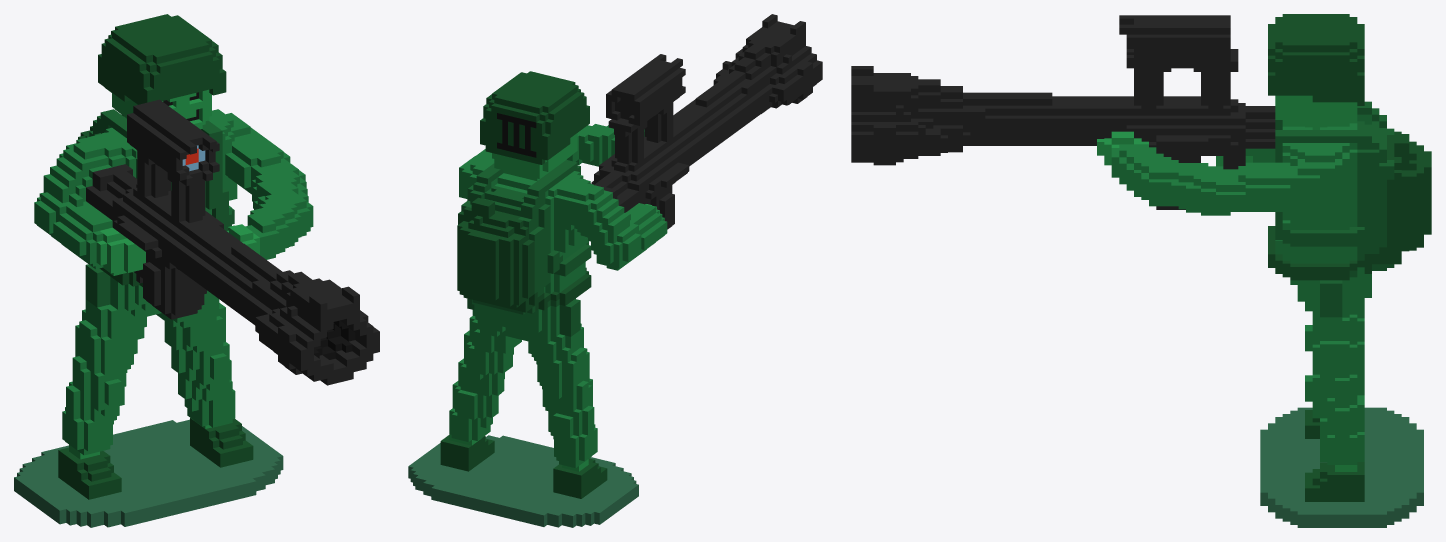
The model's file is snajper_soldier_LVL3_2.0.obj.
The picture shows the model from 3 angles, left to right: view 1: azimuth 30°, elevation 25°; view 2: azimuth 150°, elevation 25°; view 3: azimuth 270°, elevation 25°; orthographic projection. The views are drawn at different scales.
Bounding box in the file's own units: 3.5 × 6.6 × 7.8.
1 material, 1 textured.
